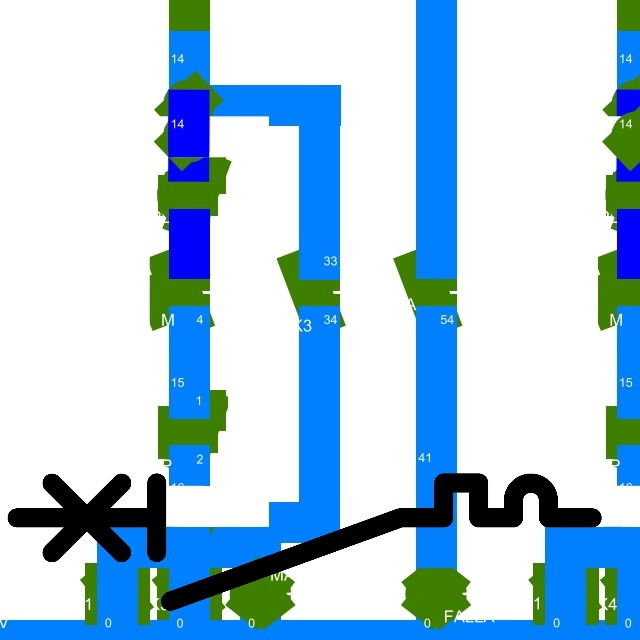interruptor_termomagnetico: (2, 468, 607, 616)
